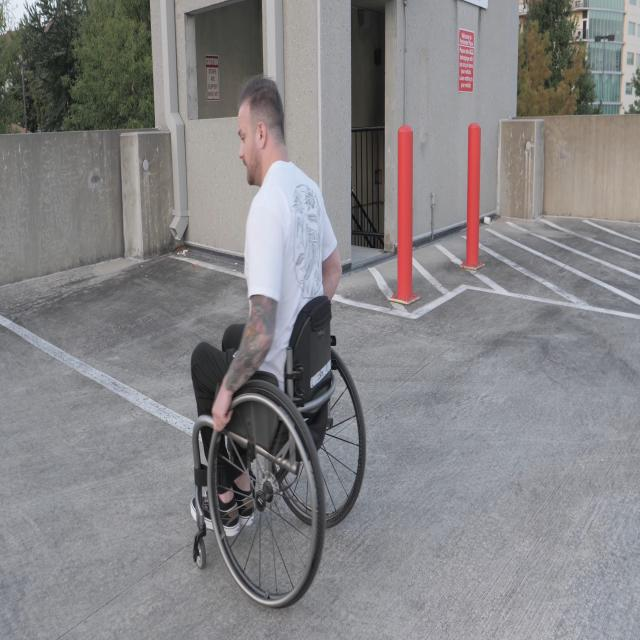wheelchairs: (188, 289, 368, 608)
